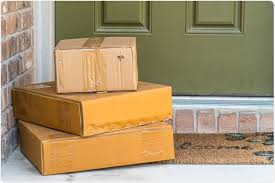package: (12, 79, 178, 132), (15, 125, 181, 166), (48, 34, 145, 93)
